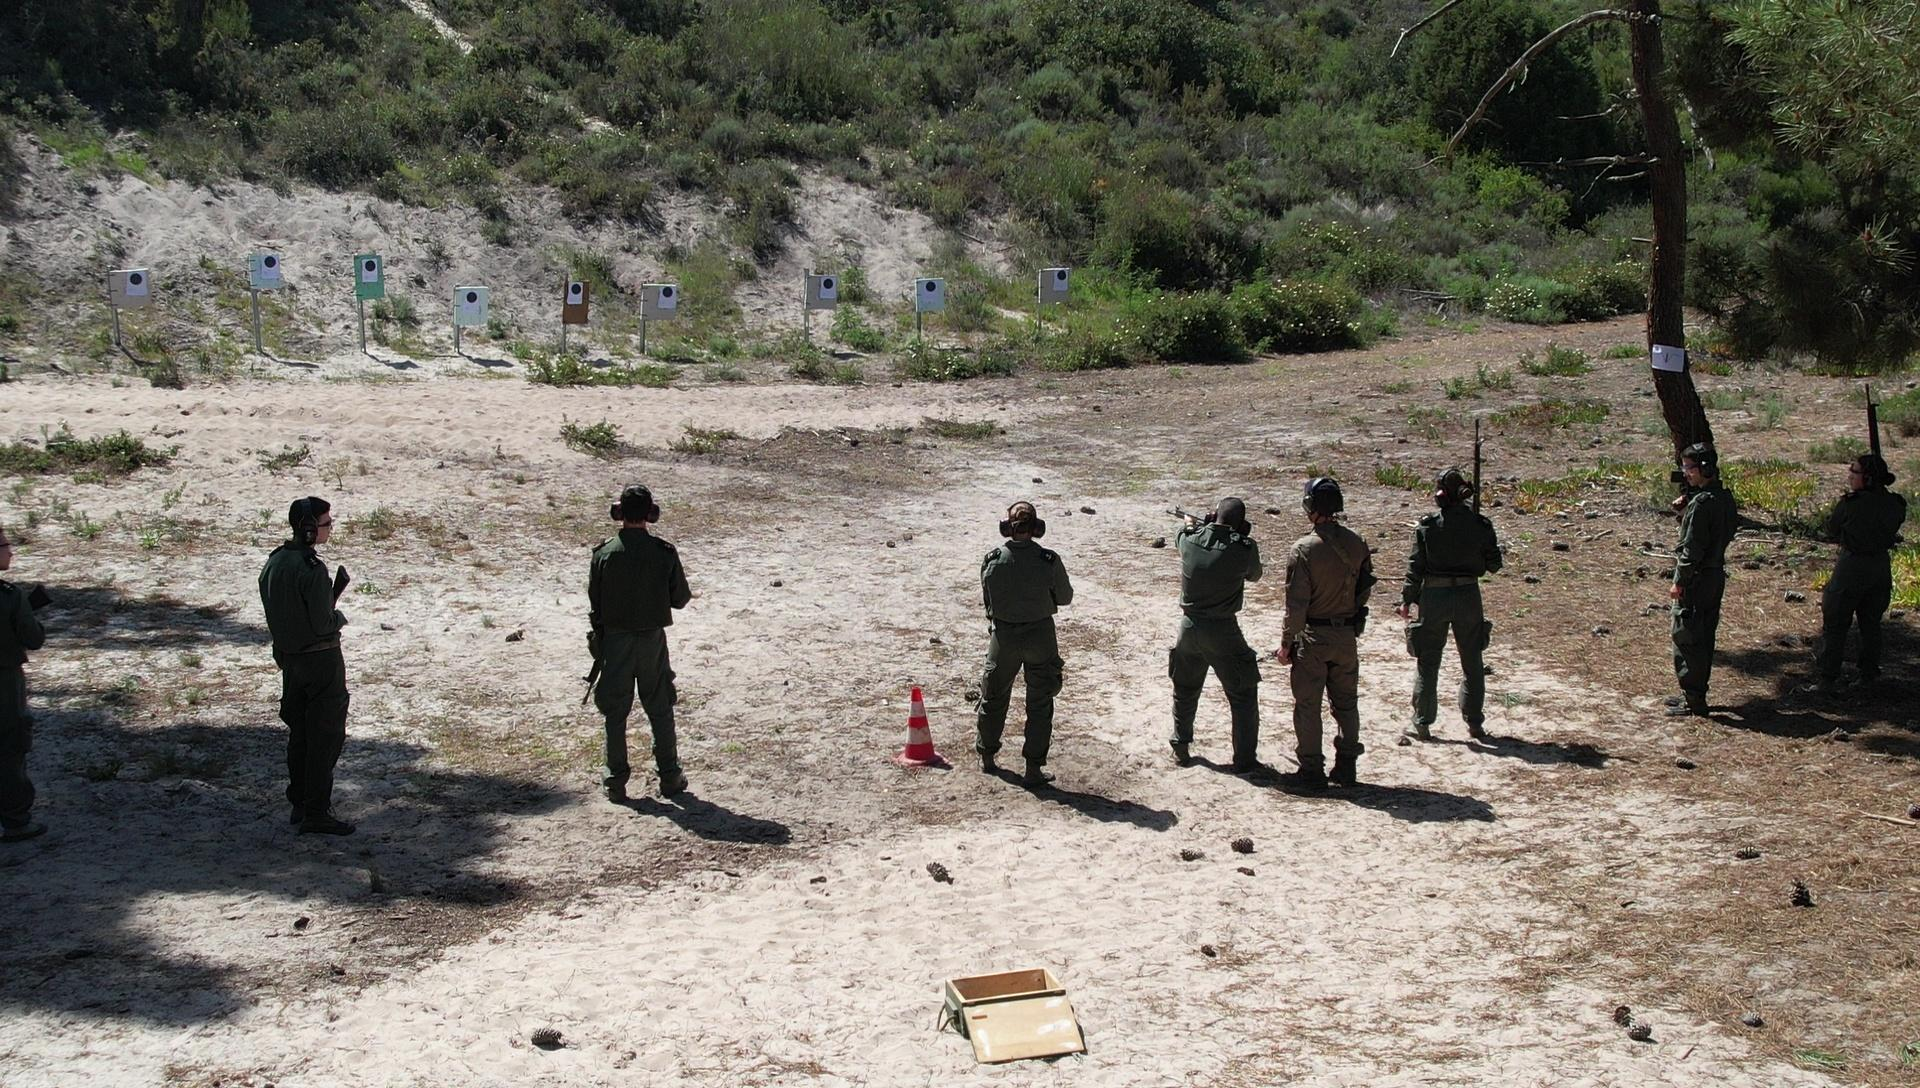Soldier: (232, 509, 400, 870), (553, 480, 719, 830), (1640, 406, 1771, 740), (1395, 421, 1513, 771), (960, 496, 1091, 801), (1154, 483, 1286, 781), (1807, 417, 1919, 727), (1276, 473, 1381, 801), (0, 526, 73, 889)
